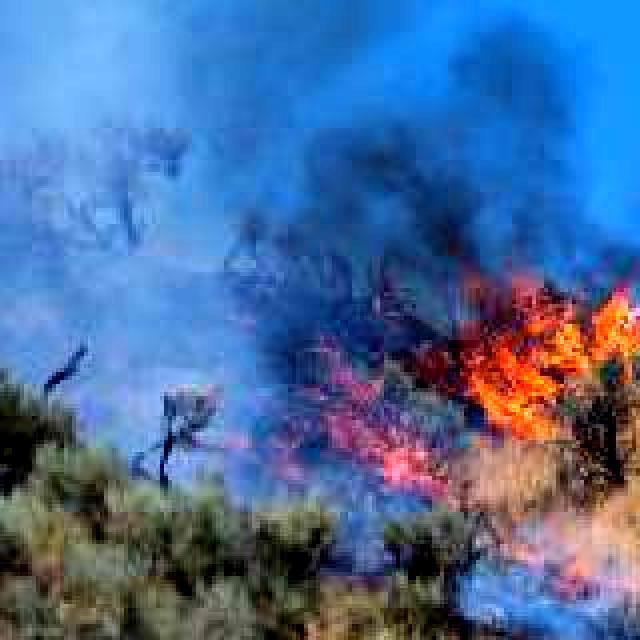smoke: (232, 0, 594, 370)
